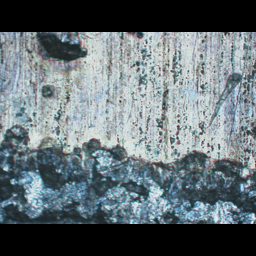d: (1, 119, 255, 223), (20, 32, 92, 66)
